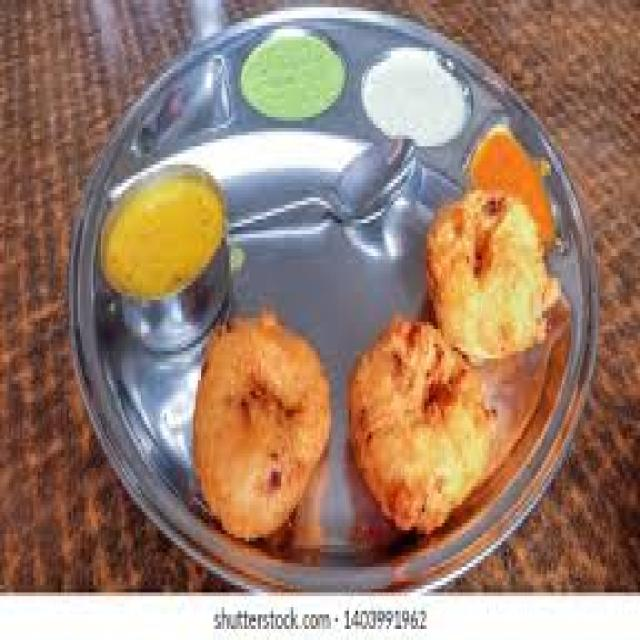MEDU VADA: (188, 315, 330, 538)
